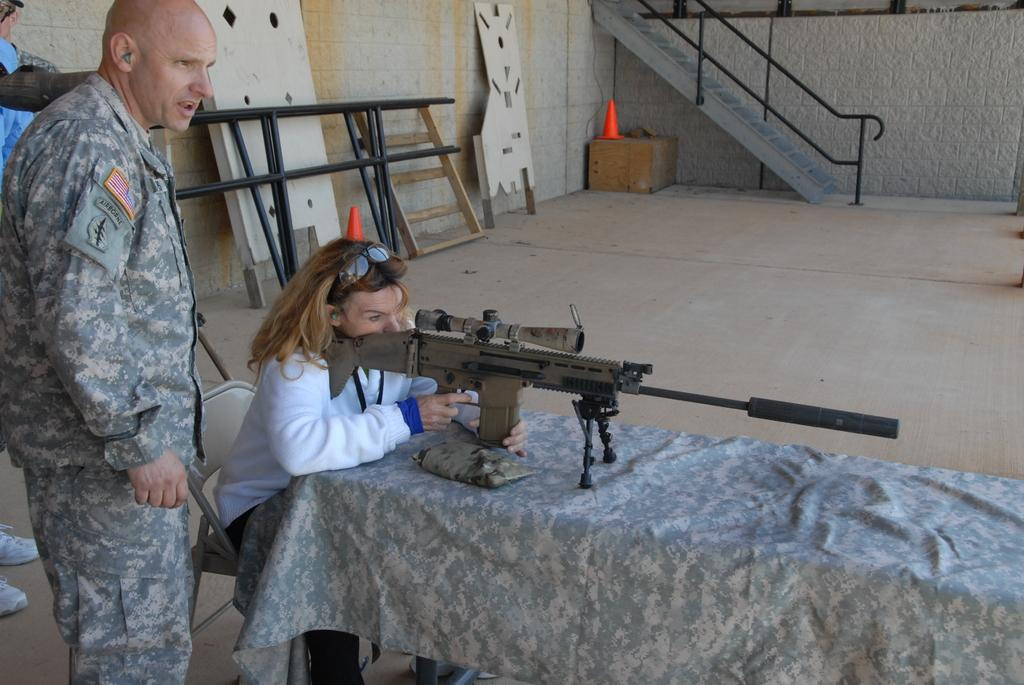Rifle: (323, 304, 894, 485)
